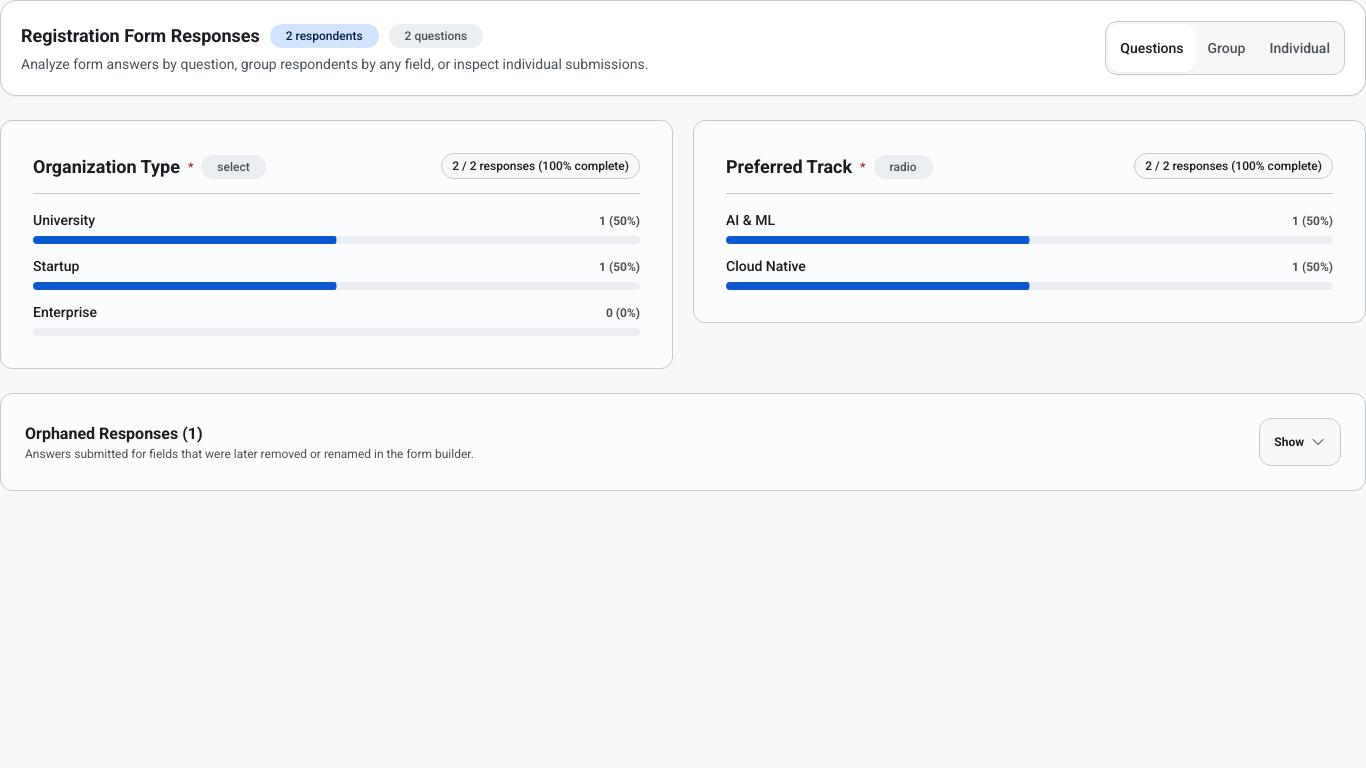
it: ResponsesTab DOM (R2) › renders Questions view by default, switches to Group view and re-aggregates, and expands Individual view
The width and height of the screenshot is (1366, 768).
Check: the heading "Registration Form Responses" is shown, box [21, 22, 260, 50]
Check: the text "2 respondents" is shown, box [270, 24, 379, 48]
# Switch to Group sub-view
Click the radio button labelled "Group". click: (1227, 48)
box: [1196, 24, 1258, 72]
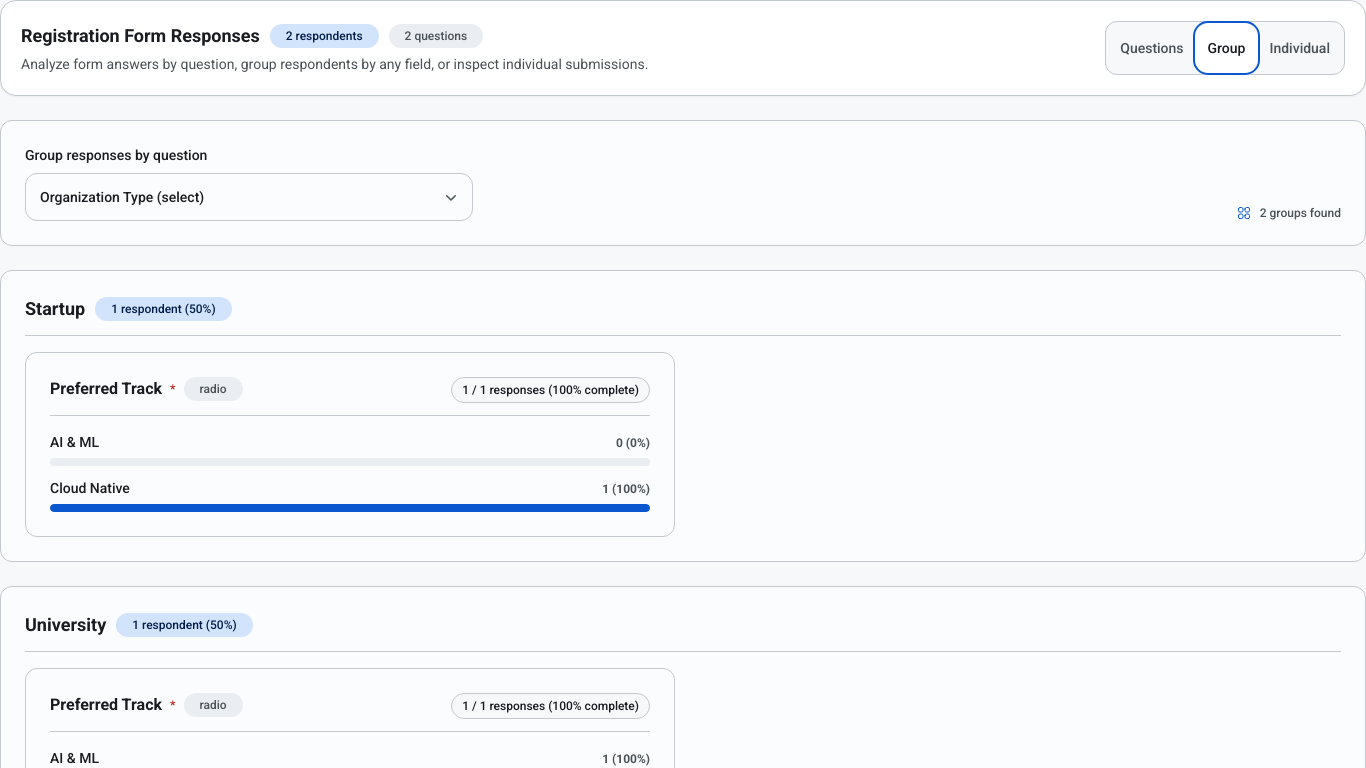
Check: the element named "Group: Startup" is shown, box [0, 270, 1365, 562]
# Switch Group-by selector to Preferred Track
Select "Preferred Track (radio)" in the dropdown labelled "Group responses by question". click: (249, 197)
box: [25, 173, 473, 221]
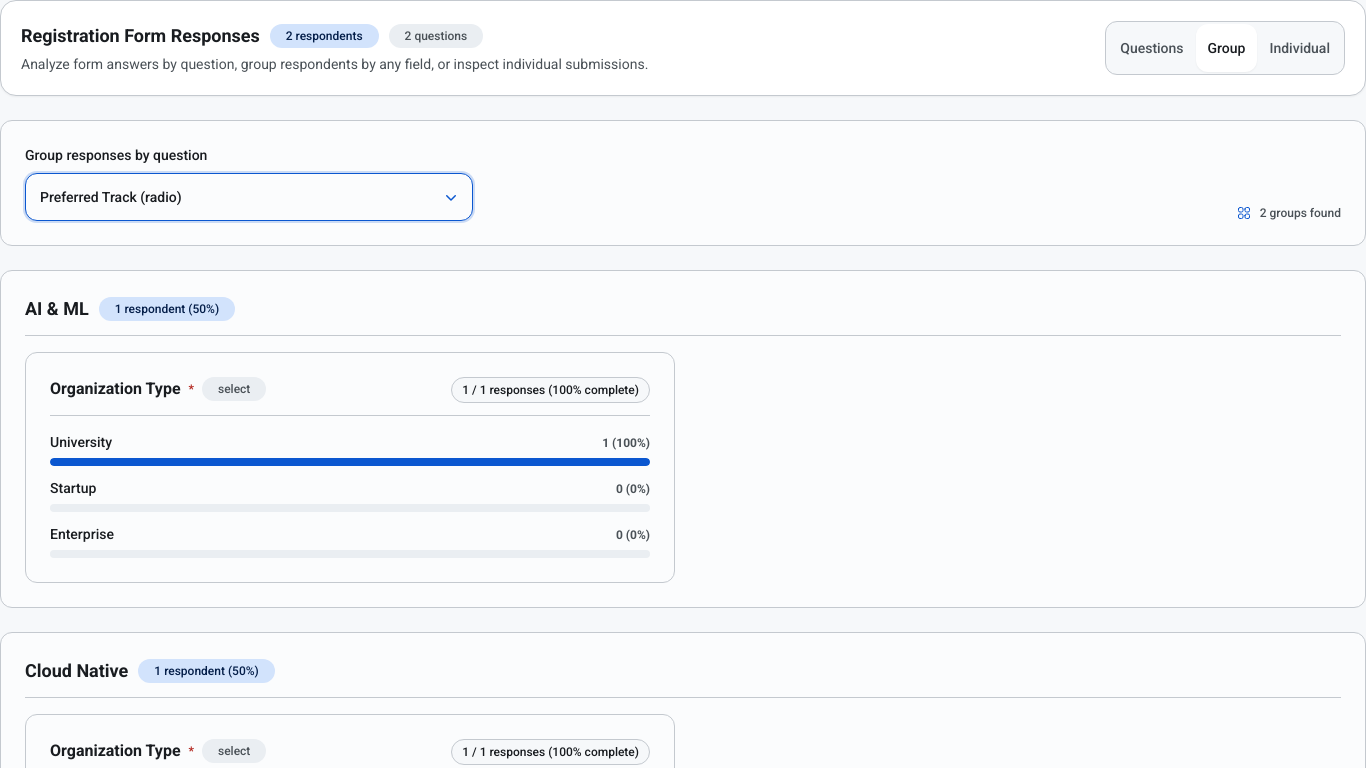
Check: the element named "Group: AI & ML" is shown, box [0, 270, 1365, 608]
# Switch to Individual sub-view
Click the radio button labelled "Individual". click: (1300, 48)
box: [1258, 24, 1342, 72]
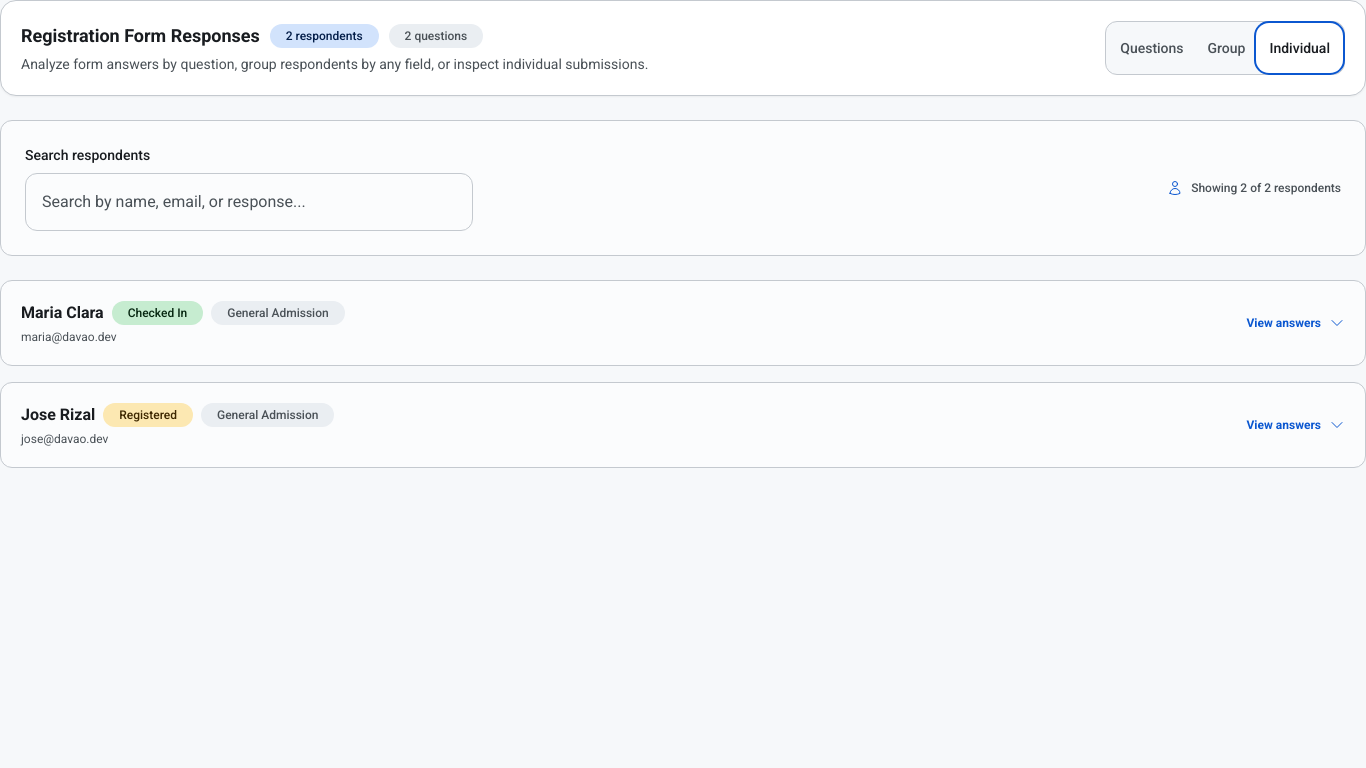
Check: the element named "Individual respondent submissions" is shown, box [0, 120, 1365, 468]
Check: the text "Maria Clara" is shown, box [21, 301, 104, 325]
Check: the text "Jose Rizal" is shown, box [21, 403, 95, 427]
# Expand Maria Clara's individual submission
Click the button "Maria Clara". click: (62, 312)
box: [1, 281, 1365, 365]
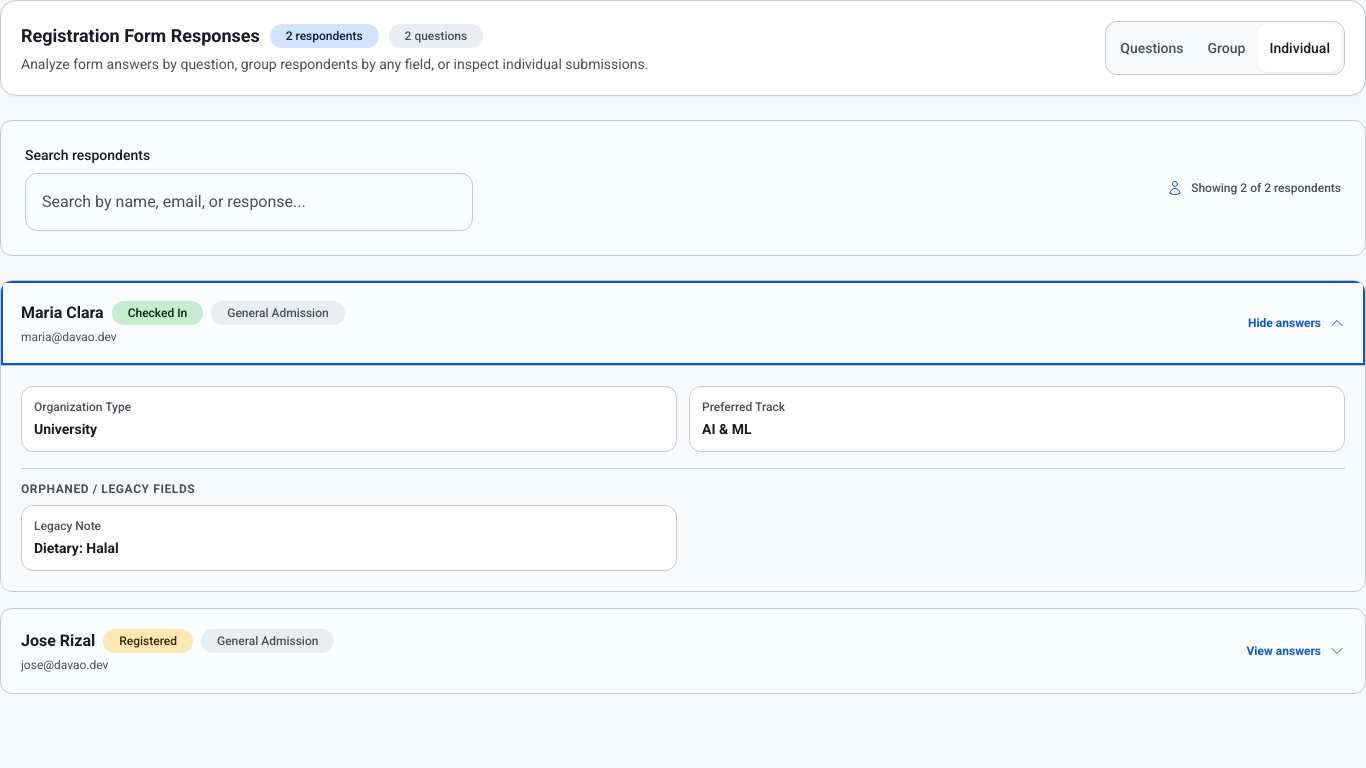
Check: the text "Dietary: Halal" is shown, box [34, 540, 119, 556]
